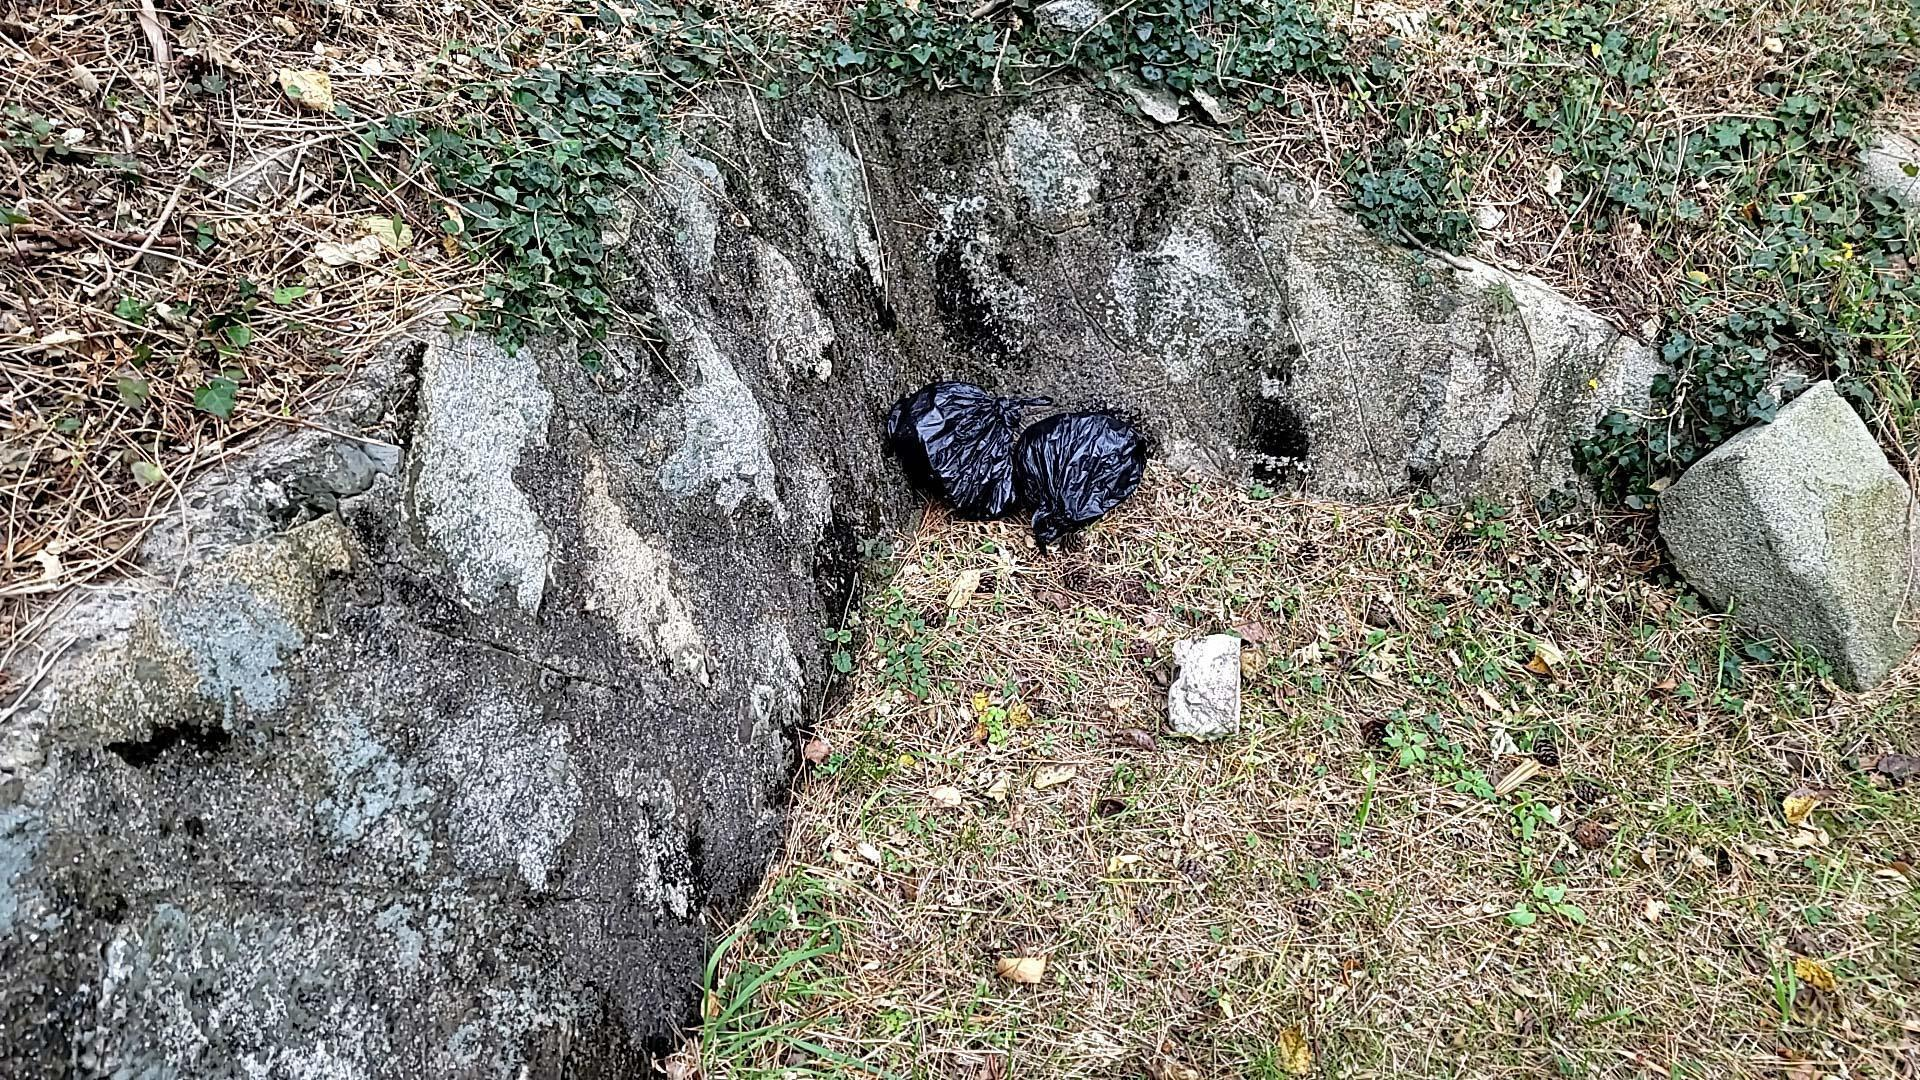black_bag: (880, 371, 1044, 526), (1001, 397, 1155, 555)
